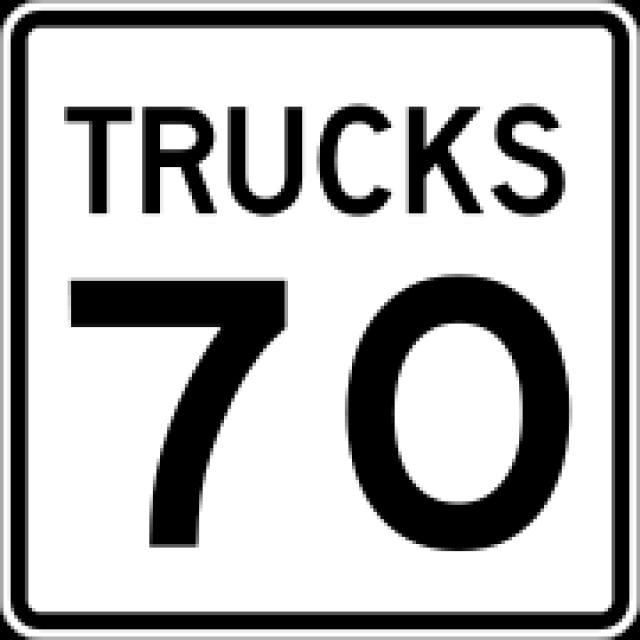Speed Limit -70-: (10, 270, 623, 606)
